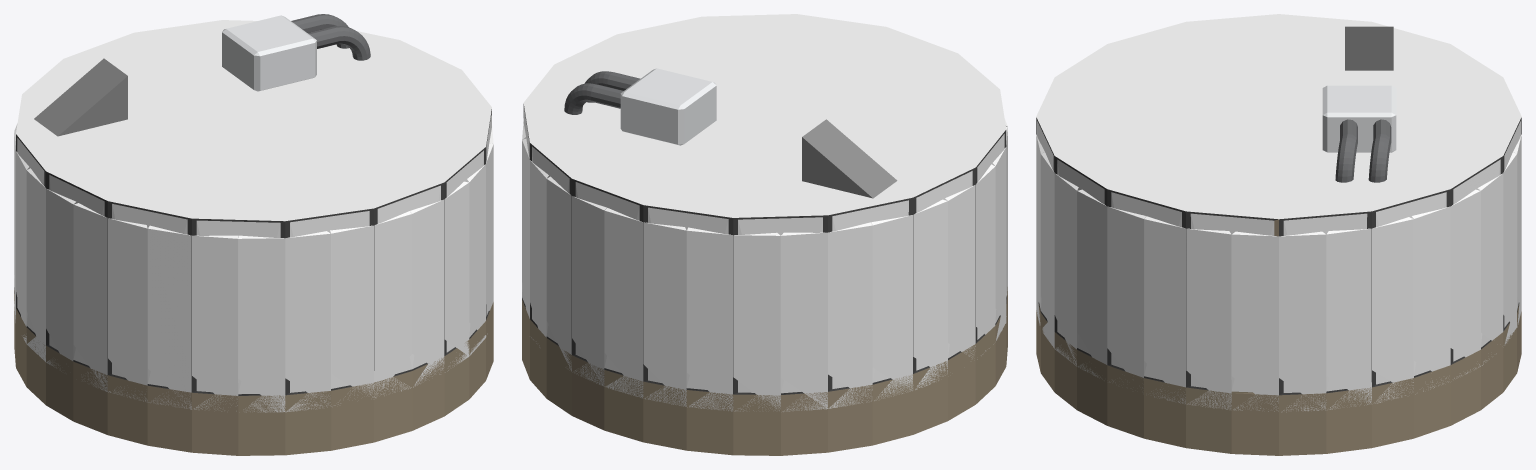
The model's file is factory.dae.
3 renders of one model, left to right at view 1: azimuth 30°, elevation 25°; view 2: azimuth 150°, elevation 25°; view 3: azimuth 270°, elevation 25°, orthographic.
Parts seen in each view (by area): view 1: BigPhatFactory, BigPhatFactory.001, Generator, StairsOnTop, Pipe.001, Pipe; view 2: BigPhatFactory, BigPhatFactory.001, Generator, StairsOnTop, Pipe, Pipe.001; view 3: BigPhatFactory, BigPhatFactory.001, Generator, StairsOnTop, Pipe, Pipe.001.
Part boxes in pixels (<box>): BigPhatFactory: <box>14,43,493,426</box>; BigPhatFactory.001: <box>14,20,493,455</box>; Generator: <box>222,15,316,91</box>; StairsOnTop: <box>34,58,127,136</box>; Pipe.001: <box>307,26,370,60</box>; Pipe: <box>291,14,348,48</box>; BigPhatFactory: <box>522,33,1007,425</box>; BigPhatFactory.001: <box>522,14,1007,455</box>; Generator: <box>620,68,716,145</box>; StairsOnTop: <box>802,119,897,198</box>; Pipe: <box>564,83,623,114</box>; Pipe.001: <box>584,71,640,102</box>; BigPhatFactory: <box>1036,34,1521,425</box>; BigPhatFactory.001: <box>1036,14,1521,455</box>; Generator: <box>1322,85,1396,152</box>; StairsOnTop: <box>1345,26,1393,70</box>; Pipe: <box>1368,119,1391,182</box>; Pipe.001: <box>1335,119,1357,182</box>.
Bounding box in the file's own units: 20 × 20 × 12.79.
